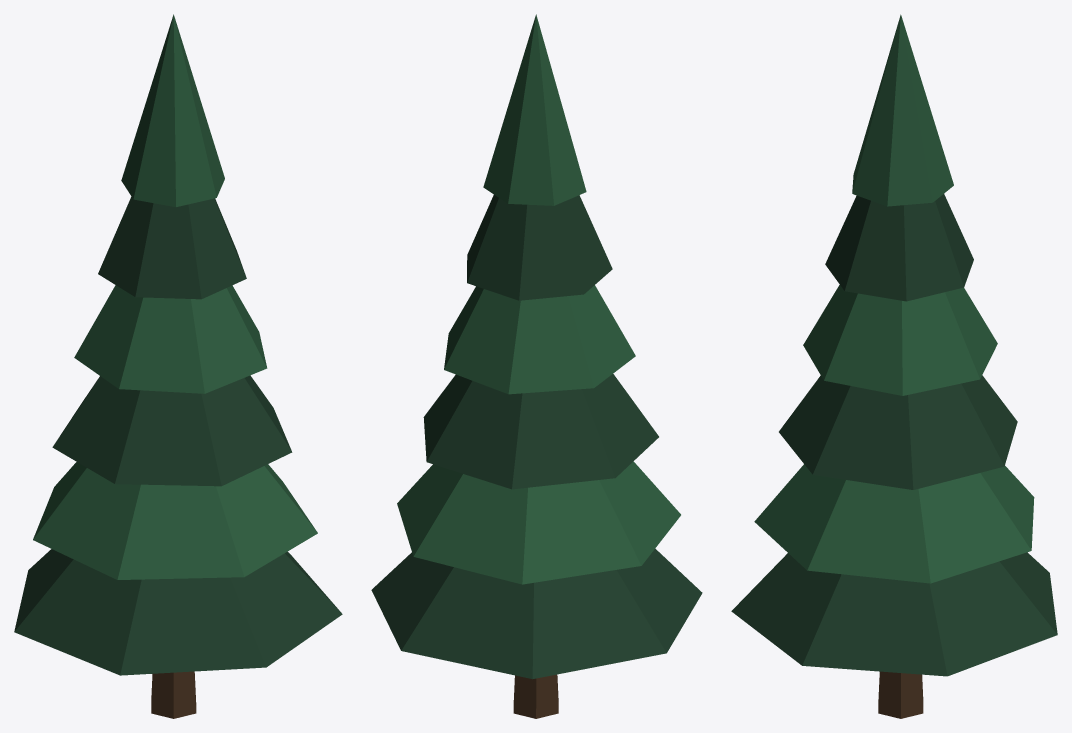
File: spruce-c.glb
The picture shows the model from 3 angles, left to right: view 1: azimuth 30°, elevation 25°; view 2: azimuth 150°, elevation 25°; view 3: azimuth 270°, elevation 25°; orthographic projection.
Visible parts, largest first — view 1: tree; view 2: tree; view 3: tree.
Boxes of the visible parts, x1,y1,x2,y2 form: tree: [14, 14, 342, 718]; tree: [371, 14, 702, 718]; tree: [731, 14, 1057, 718].
Bounding box in the file's own units: 3.31 × 7.66 × 3.27.
